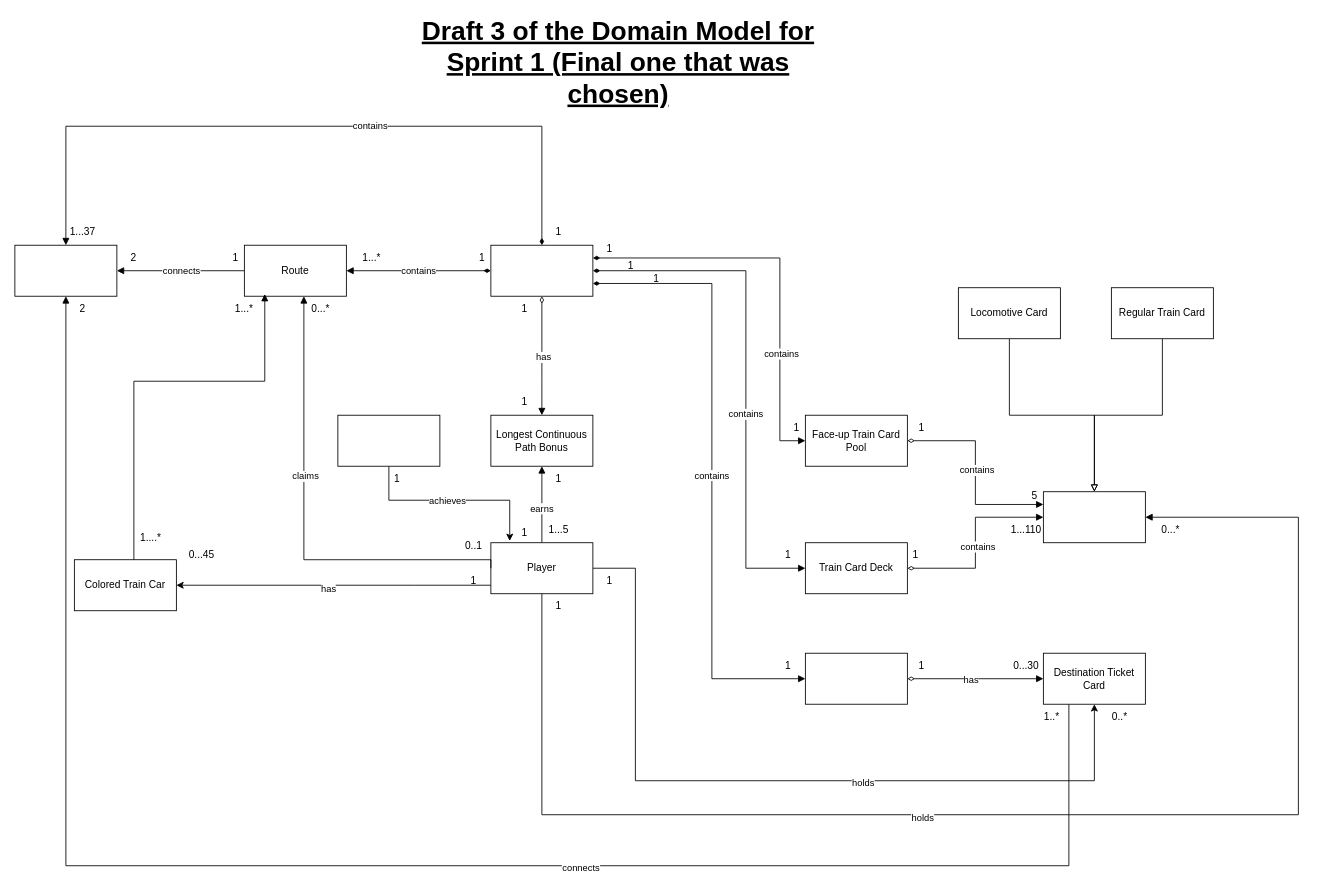
Some shapes in this 1320 by 887 pixel diagram are drawn without their labels. The shapes that lost their labels are listed below. From the top down, each one's centre as x and y in pixels, then its label:
At pixel 65 270: "City".
At pixel 541 270: "Game Board".
At pixel 388 440: "Score".
At pixel 1094 517: "Train Card".
At pixel 856 678: "Destination Ticket Card Deck".
